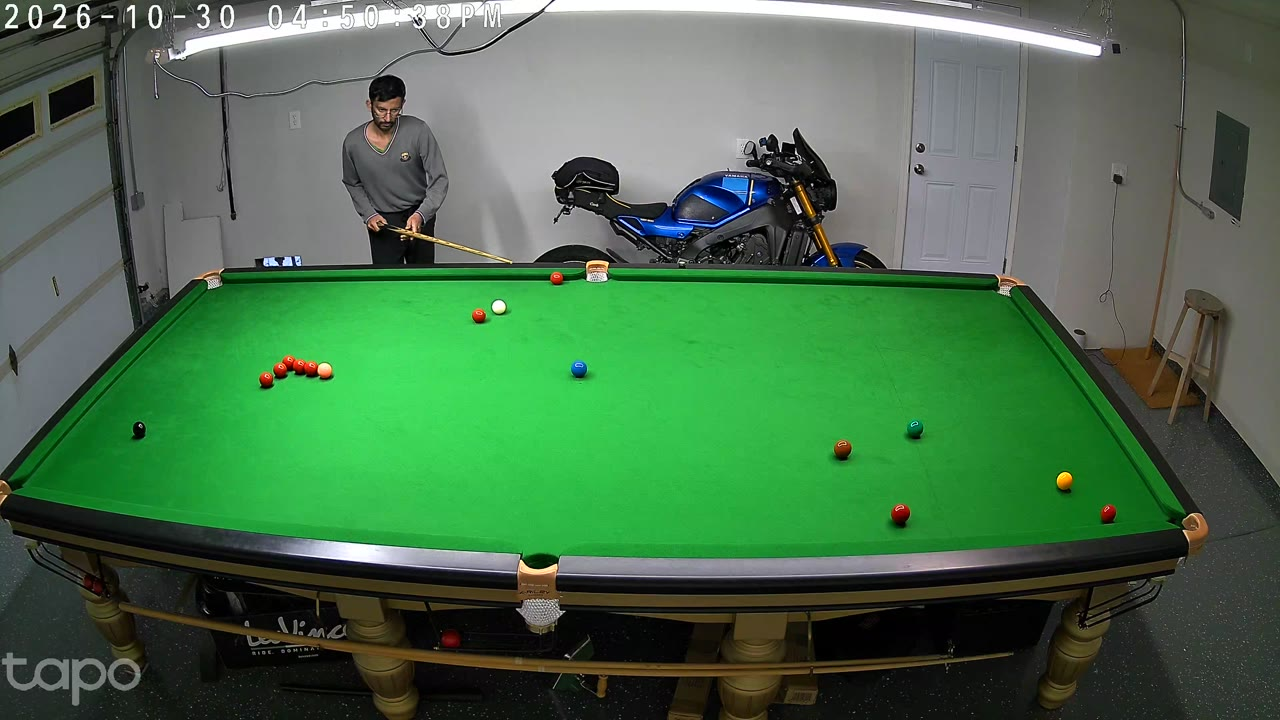black: (133, 419, 146, 441)
blue: (571, 359, 587, 381)
brown: (834, 438, 852, 461)
green: (907, 417, 923, 441)
pink: (319, 361, 332, 381)
red: (890, 501, 910, 528), (1100, 502, 1116, 527), (472, 307, 485, 326), (274, 361, 286, 381), (260, 371, 272, 390), (305, 360, 317, 379), (278, 360, 288, 379), (551, 271, 562, 288), (284, 355, 295, 372), (295, 358, 305, 376)
white: (491, 298, 505, 318)
yellow: (1056, 470, 1073, 494)
